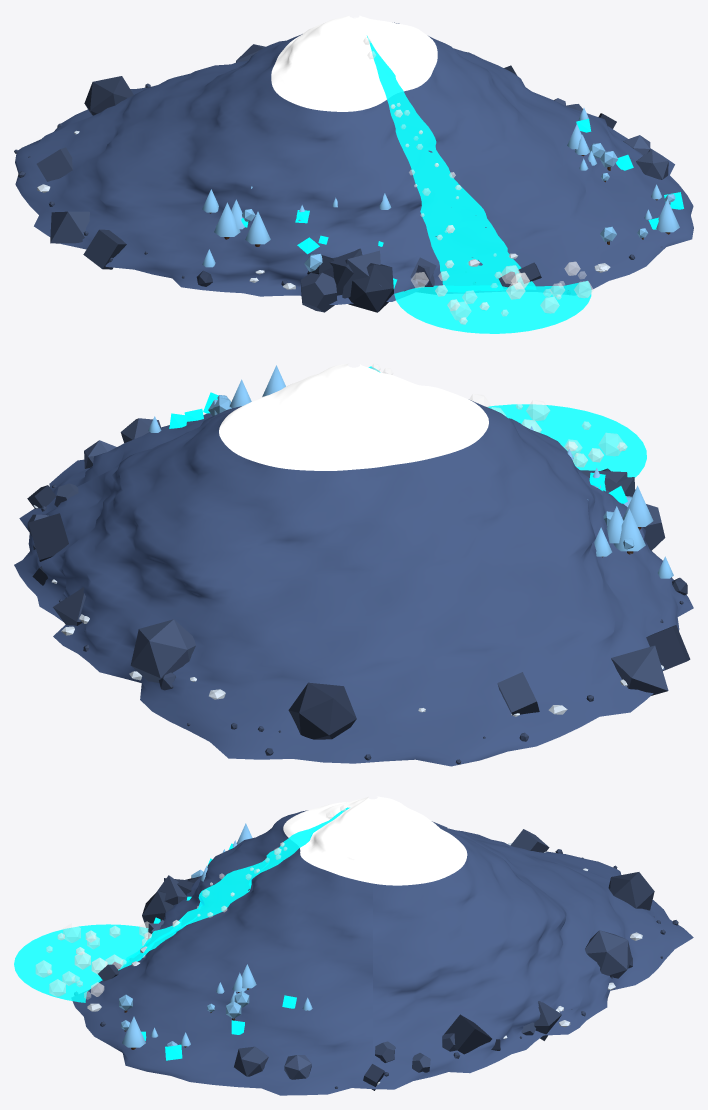
The model's file is montana_8.glb.
The picture shows the model from 3 angles, top to bottom: view 1: azimuth 30°, elevation 25°; view 2: azimuth 150°, elevation 25°; view 3: azimuth 270°, elevation 25°; orthographic projection. The views are drawn at different scales.
Visible parts, largest first — view 1: tierra, cima, rio, poza_agua, roca_15, roca_22, roca_20, roca_2, roca_18, copa (×2), roca_23, roca_6 (+2 smaller); view 2: tierra, cima, poza_agua, roca_22, roca_25, roca_2, roca_19, roca_18, roca_23, roca_16, copa; view 3: tierra, cima, poza_agua, rio, roca_25, roca_22, roca_19, roca_14, roca_15, roca_24, roca_16, roca_23 (+1 smaller).
Part boxes in pixels (box(x1,y1,x2,y2)): tierra: box(15, 22, 693, 304); cima: box(271, 15, 437, 111); rio: box(367, 36, 535, 287); poza_agua: box(394, 280, 591, 333); roca_15: box(348, 263, 393, 312); roca_22: box(84, 76, 133, 115); roca_20: box(300, 272, 337, 312); roca_2: box(50, 211, 89, 243); roca_18: box(83, 229, 126, 269); copa (×2): box(214, 202, 270, 244); roca_23: box(36, 147, 72, 181); roca_6: box(342, 250, 381, 298); tierra: box(14, 400, 693, 766); cima: box(219, 363, 488, 470); poza_agua: box(488, 404, 646, 477); roca_22: box(288, 682, 356, 739); roca_25: box(130, 619, 195, 682); roca_2: box(611, 645, 668, 695); roca_19: box(28, 513, 68, 561); roca_18: box(646, 625, 690, 670); roca_23: box(497, 672, 539, 715); roca_16: box(53, 587, 85, 625); copa: box(613, 508, 645, 551); tierra: box(72, 810, 693, 1095); cima: box(283, 796, 467, 885); poza_agua: box(14, 924, 148, 1002); rio: box(98, 807, 349, 981); roca_25: box(585, 930, 632, 978); roca_22: box(608, 872, 654, 910); roca_19: box(444, 1014, 491, 1054); roca_14: box(234, 1046, 268, 1076); roca_15: box(142, 891, 173, 927); roca_24: box(284, 1055, 311, 1079); roca_16: box(534, 1001, 561, 1040); roca_23: box(510, 829, 549, 852).
Bounding box in the file's own units: 32.22 × 10.79 × 35.99.
